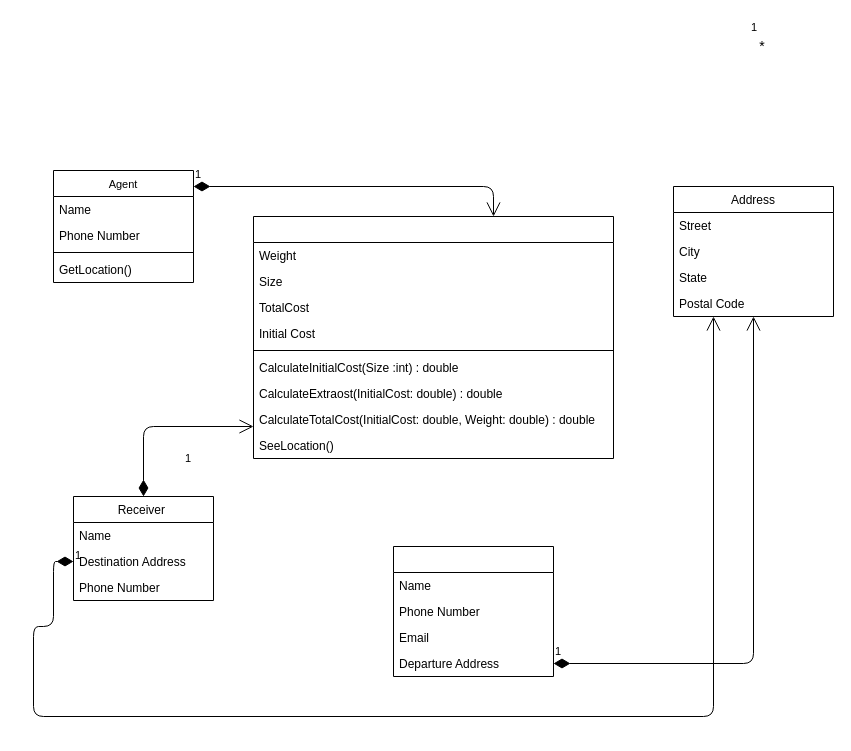
Some shapes in this 851 by 751 pixel diagram are drawn without their labels. The shapes that lost their labels are listed below. From the top down, each one's box as (x1, y1, x2, y2) in pixels, then its label:
(252, 216, 614, 458): Package
(392, 546, 554, 676): Sender
